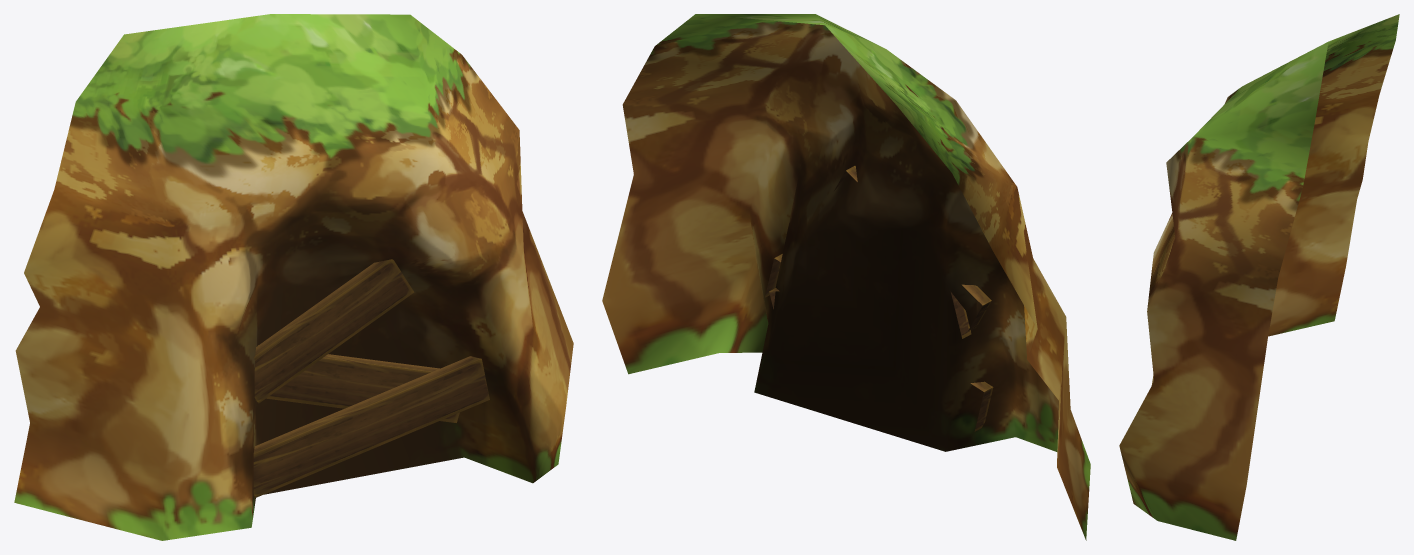
The model's file is ground_cave2.fbx.
3 views of the same model, side by side, from view 1: azimuth 30°, elevation 25°; view 2: azimuth 150°, elevation 25°; view 3: azimuth 270°, elevation 25° (orthographic). The views are drawn at different scales.
Visible parts, largest first — view 1: ground_cave2; view 2: ground_cave2; view 3: ground_cave2.
Boxes of the visible parts, x1,y1,x2,y2 form: ground_cave2: (14,14,573,540); ground_cave2: (602,14,1090,540); ground_cave2: (1119,14,1399,540).
Bounding box in the file's own units: 499 × 400 × 259.
